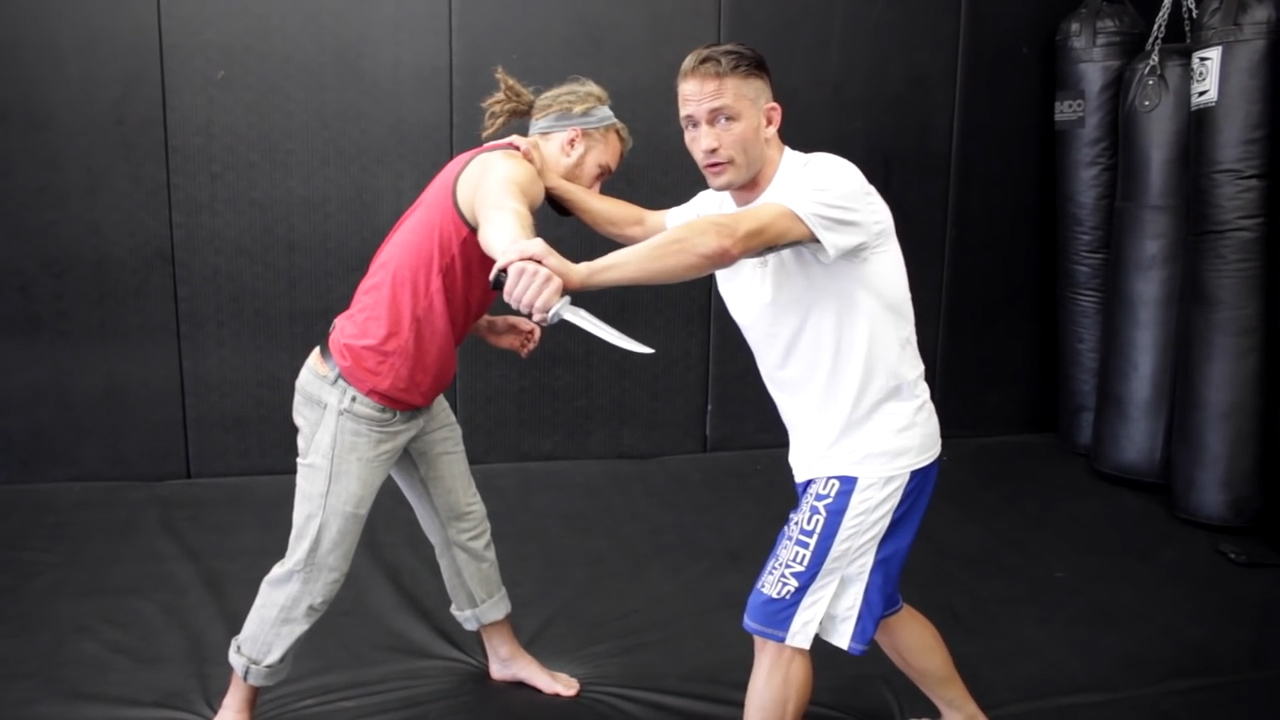knife: (489, 263, 663, 371)
